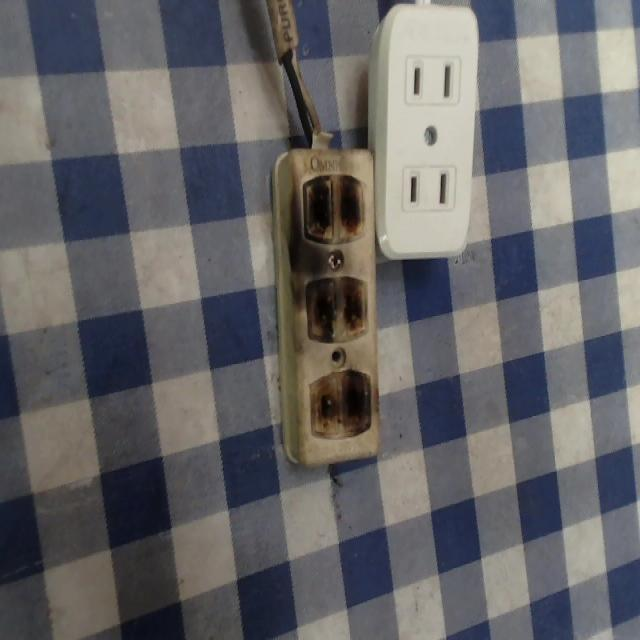-: (291, 164, 368, 245), (301, 365, 375, 443), (304, 275, 363, 344)
